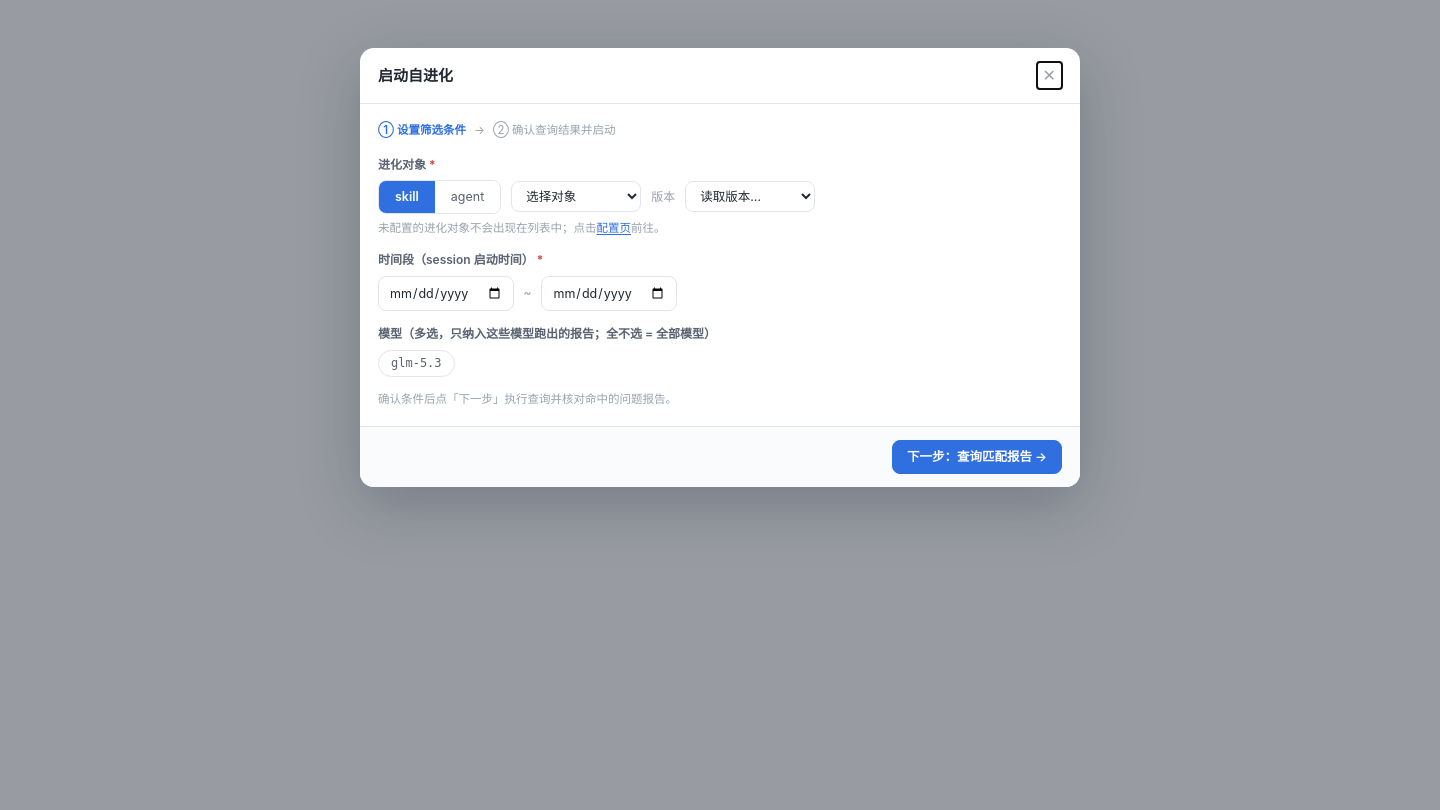
Scenario: launch wizard › always offers next and shows field errors directly under empty controls
Click the button with test id "wizard-next" at (977, 457), box [892, 440, 1062, 474]
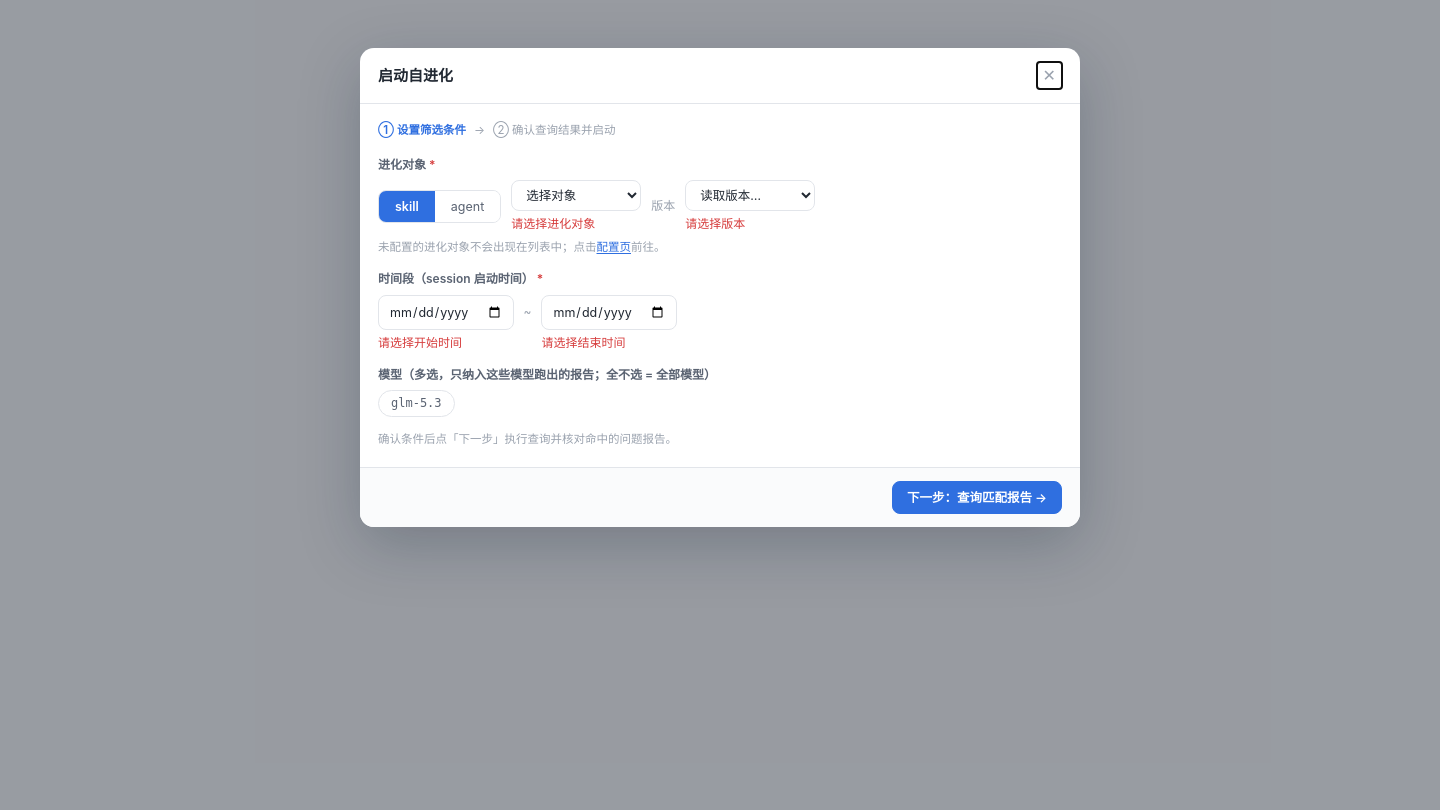
Check: the message with test id "wizard-target-error" reads "请选择进化对象", box [511, 216, 595, 231]
Check: the message with test id "wizard-version-error" reads "请选择版本", box [685, 216, 745, 231]
Check: the message with test id "wizard-from-error" reads "请选择开始时间", box [378, 335, 462, 350]
Select "deep-research" in the dropdown with test id "wizard-target" at (576, 196), box [511, 180, 641, 211]
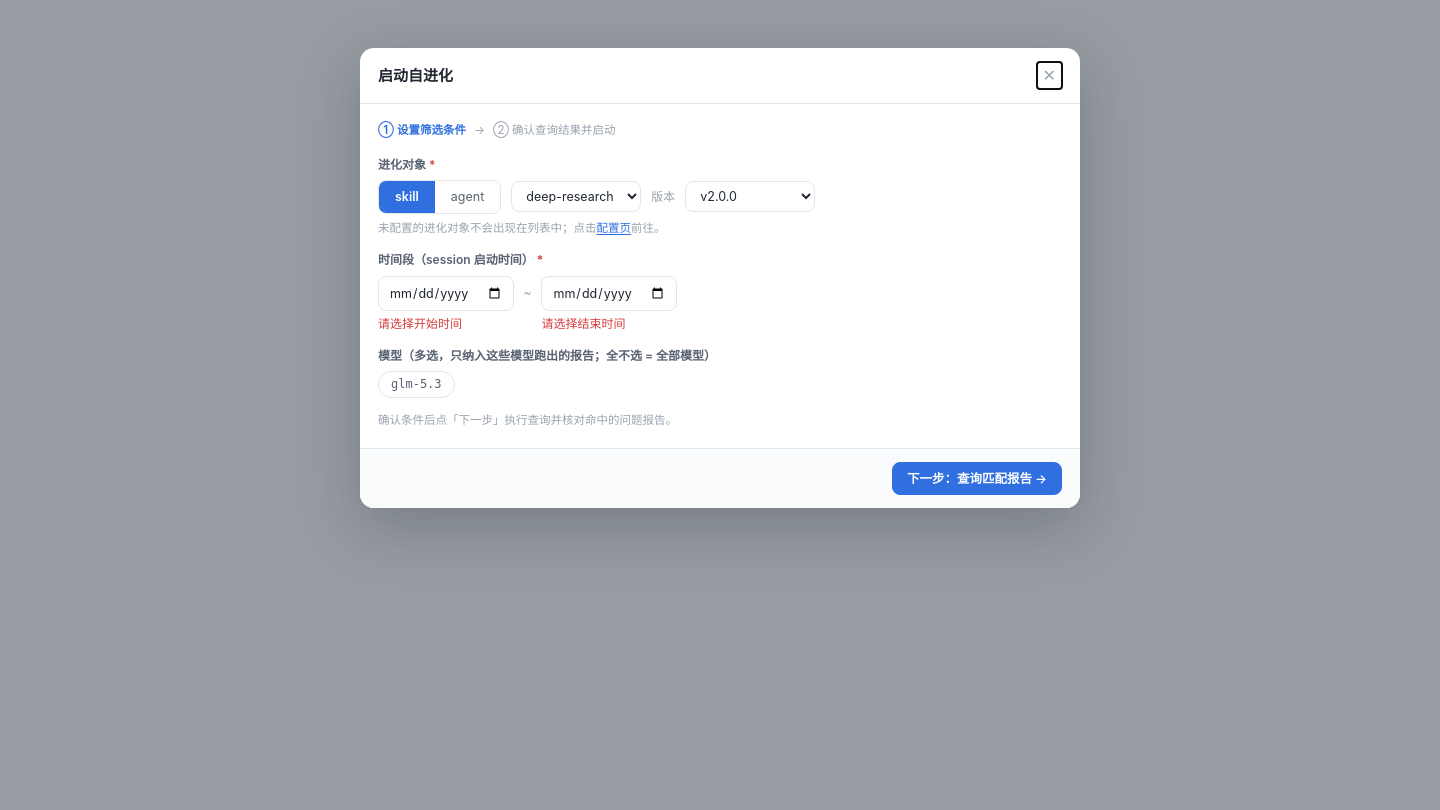
Check: the message "请选择开始时间" is shown, box [378, 315, 462, 333]
Type "2026-08-01" into the date field with test id "wizard-from" at (446, 294), box [378, 276, 514, 311]
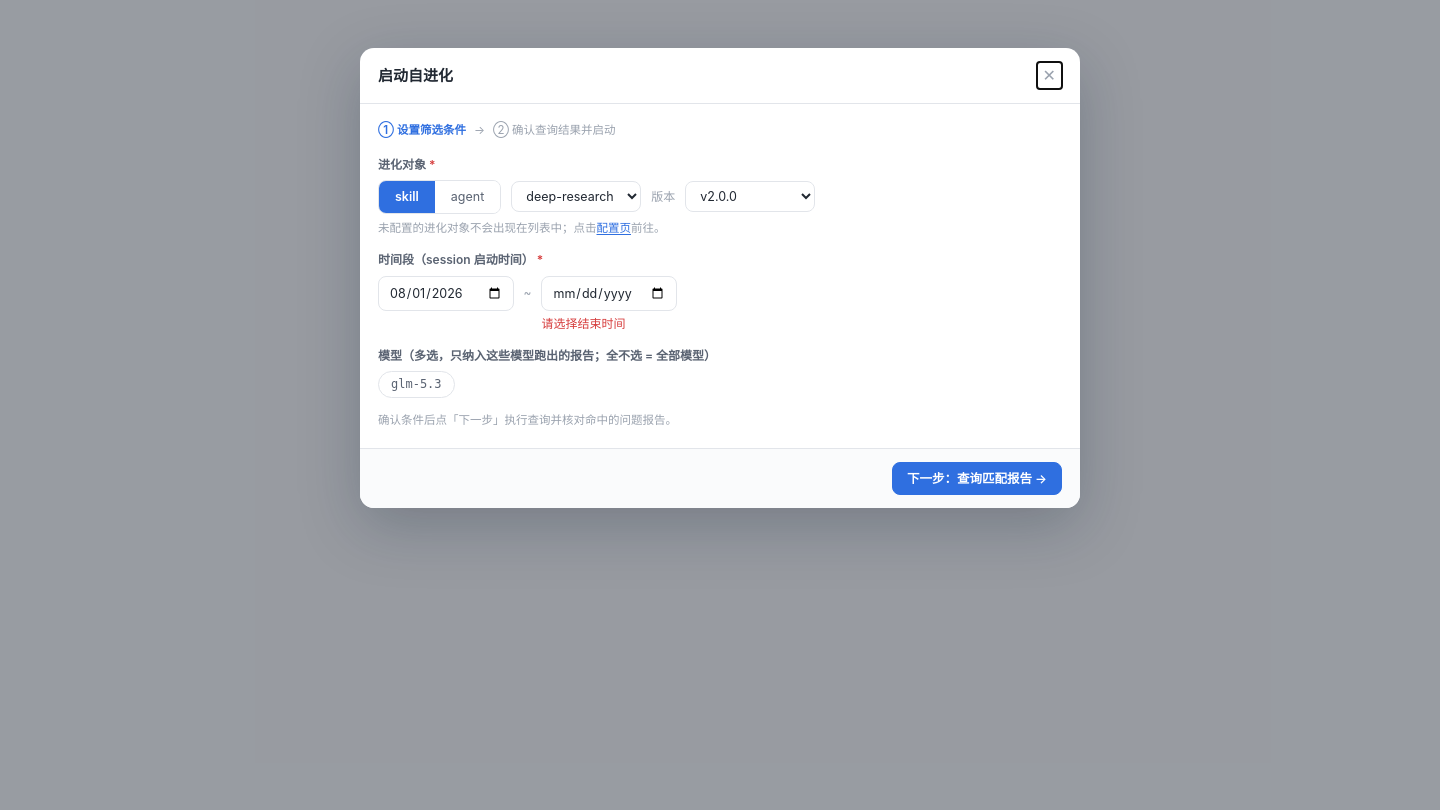
Check: the message "请选择结束时间" is shown, box [542, 315, 626, 333]
Type "2026-08-01" into the date field with test id "wizard-to" at (609, 294), box [542, 276, 677, 311]
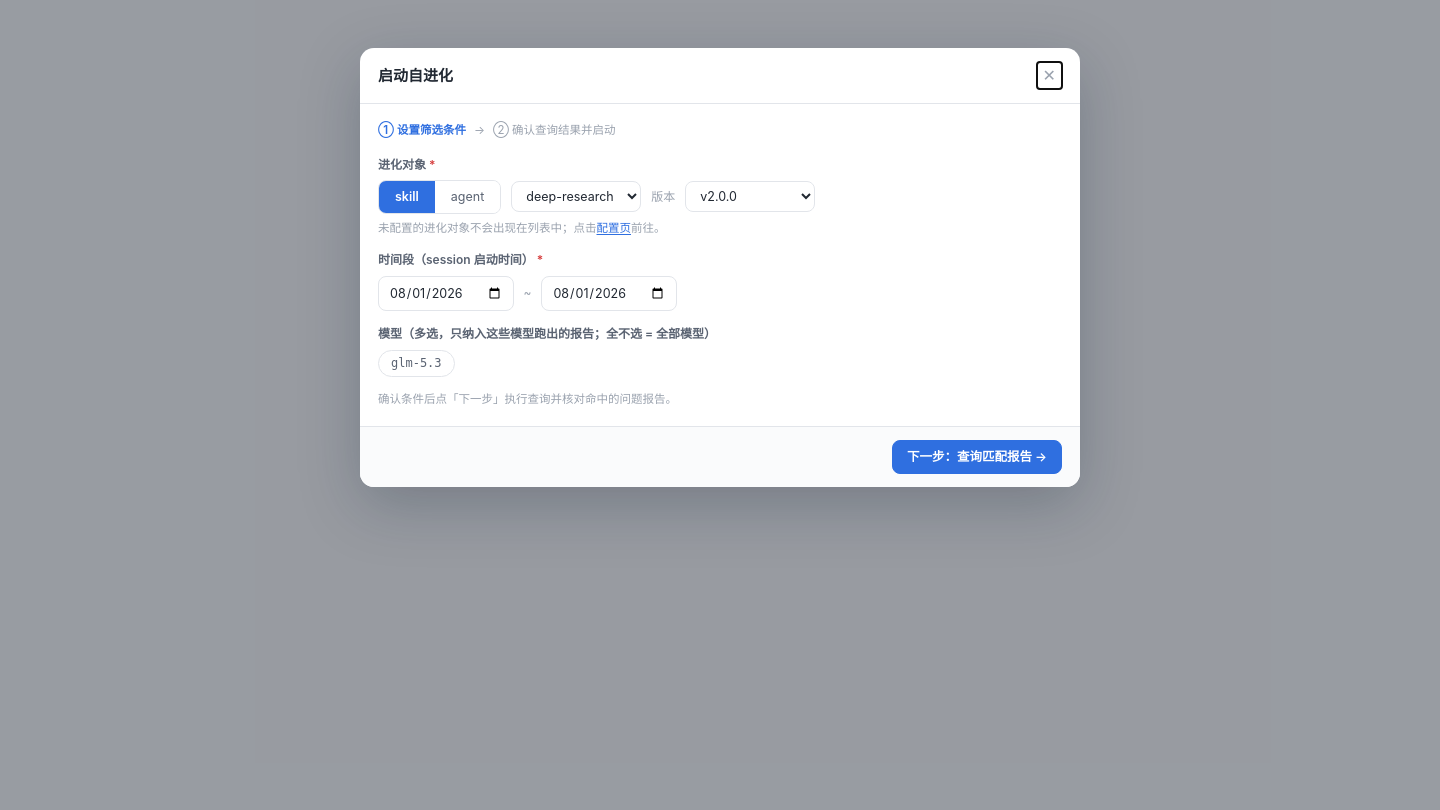
Type "2026-08-31" into the date field with test id "wizard-from" at (446, 294), box [378, 276, 514, 311]
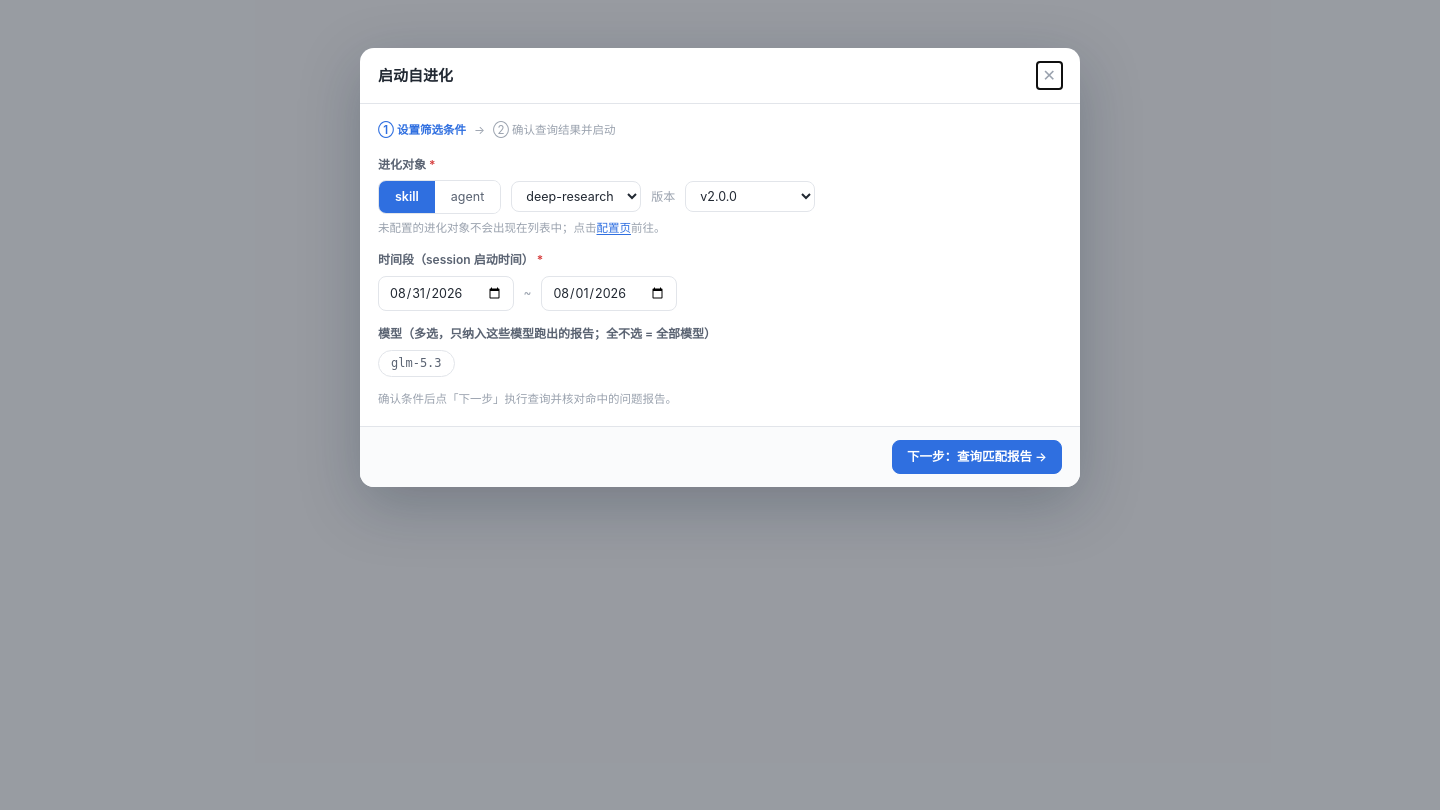
Click the button with test id "wizard-next" at (977, 457), box [892, 440, 1062, 474]
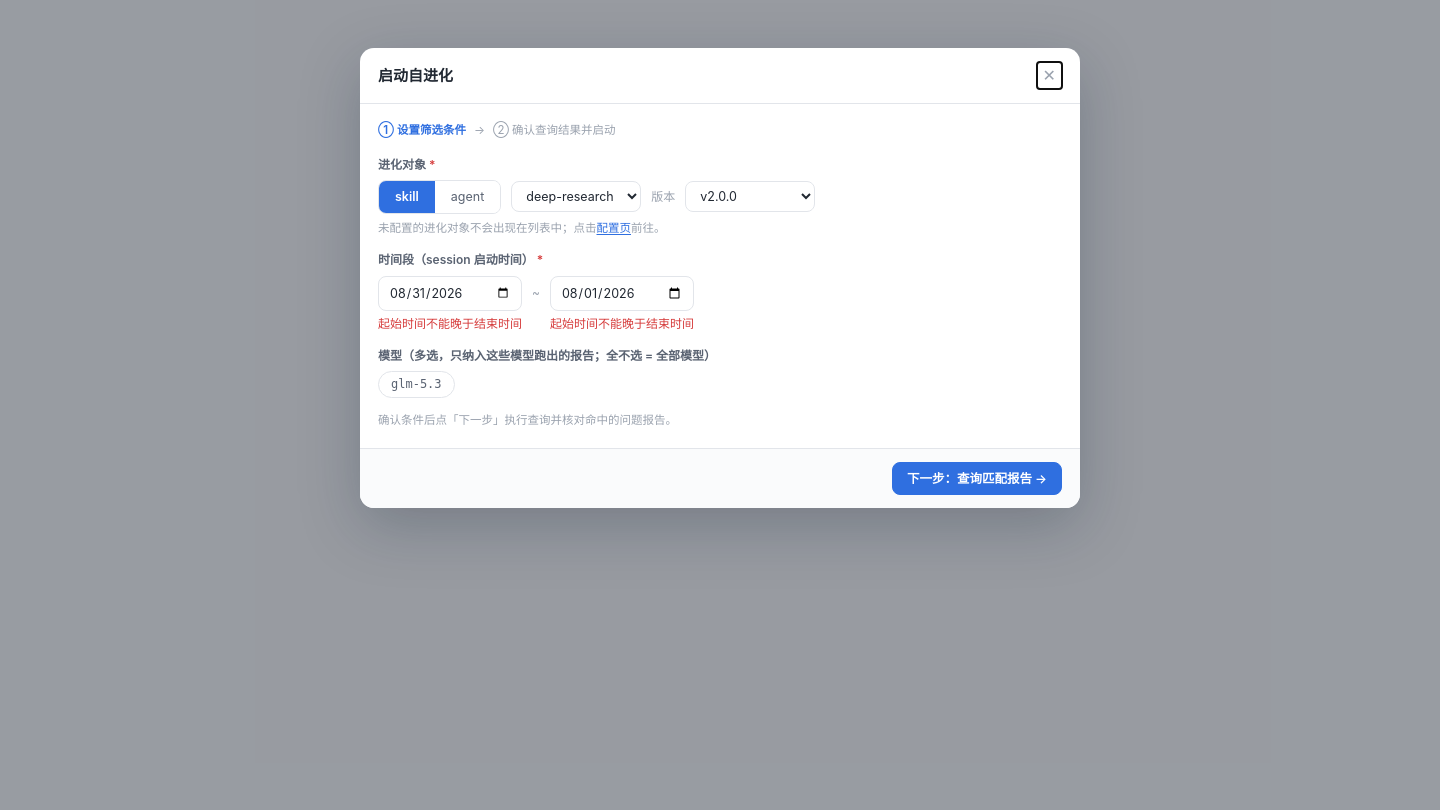
Check: the message with test id "wizard-from-error" reads "起始时间不能晚于结束时间", box [378, 316, 522, 331]
Check: the message with test id "wizard-to-error" reads "起始时间不能晚于结束时间", box [550, 316, 694, 331]
